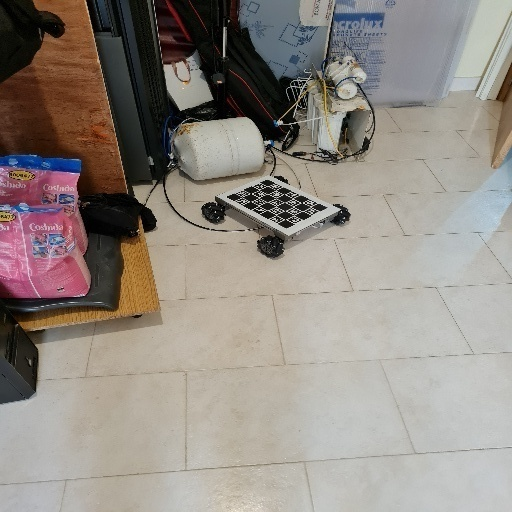Omniwheel: (201, 174, 352, 261)
